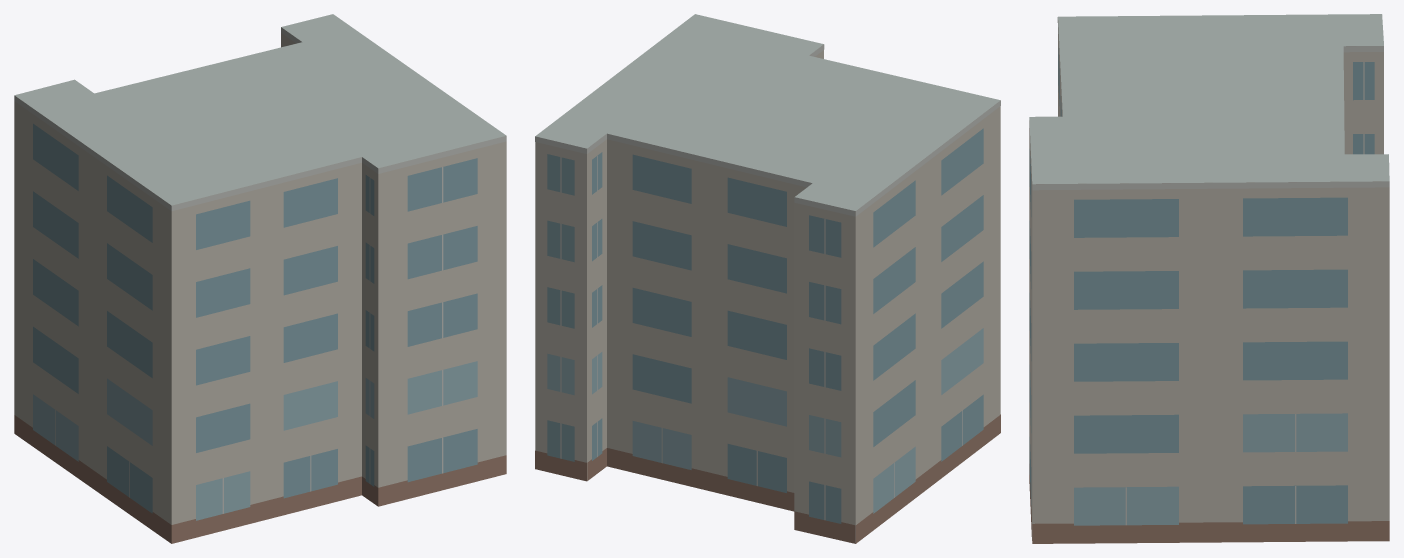
File: survey-upis-33041781.glb
3 renders of one model, left to right at view 1: azimuth 30°, elevation 25°; view 2: azimuth 150°, elevation 25°; view 3: azimuth 270°, elevation 25°, orthographic. The views are drawn at different scales.
Visible parts, largest first — view 1: survey-upis-33041781.tmp; view 2: survey-upis-33041781.tmp; view 3: survey-upis-33041781.tmp.
Boxes of the visible parts, <box> form: survey-upis-33041781.tmp: <box>14,14,506,543</box>; survey-upis-33041781.tmp: <box>535,14,1000,543</box>; survey-upis-33041781.tmp: <box>1029,14,1389,543</box>.
Size of the model in its own units: 14.72 by 14.5 by 13.17.
